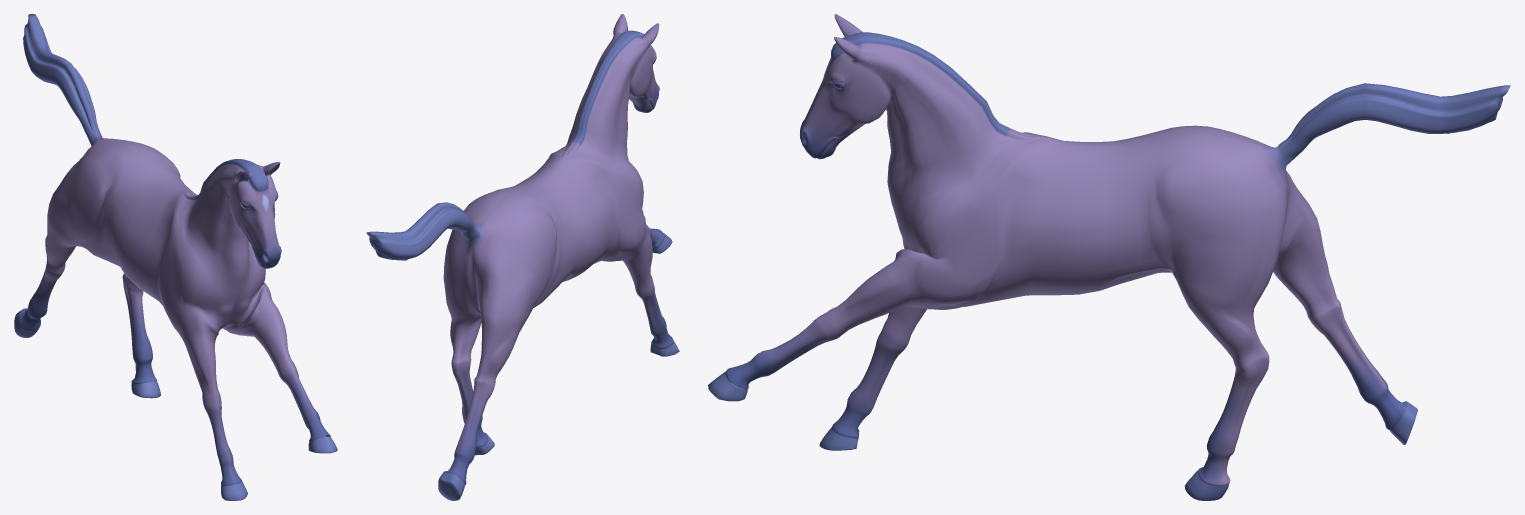
File: GhostHorse.fbx
The picture shows the model from 3 angles, left to right: view 1: azimuth 30°, elevation 25°; view 2: azimuth 150°, elevation 25°; view 3: azimuth 270°, elevation 25°; orthographic projection. The views are drawn at different scales.
Parts seen in each view (by area): view 1: horse_obj_11:Figure_1; view 2: horse_obj_11:Figure_1; view 3: horse_obj_11:Figure_1.
Boxes of the visible parts, x1=… form: horse_obj_11:Figure_1: x1=14, y1=14, x2=337, y2=500; horse_obj_11:Figure_1: x1=366, y1=14, x2=679, y2=500; horse_obj_11:Figure_1: x1=708, y1=14, x2=1510, y2=500.
Bounding box in the file's own units: 0.2421 × 0.8322 × 1.33.
1 material, 1 textured.
